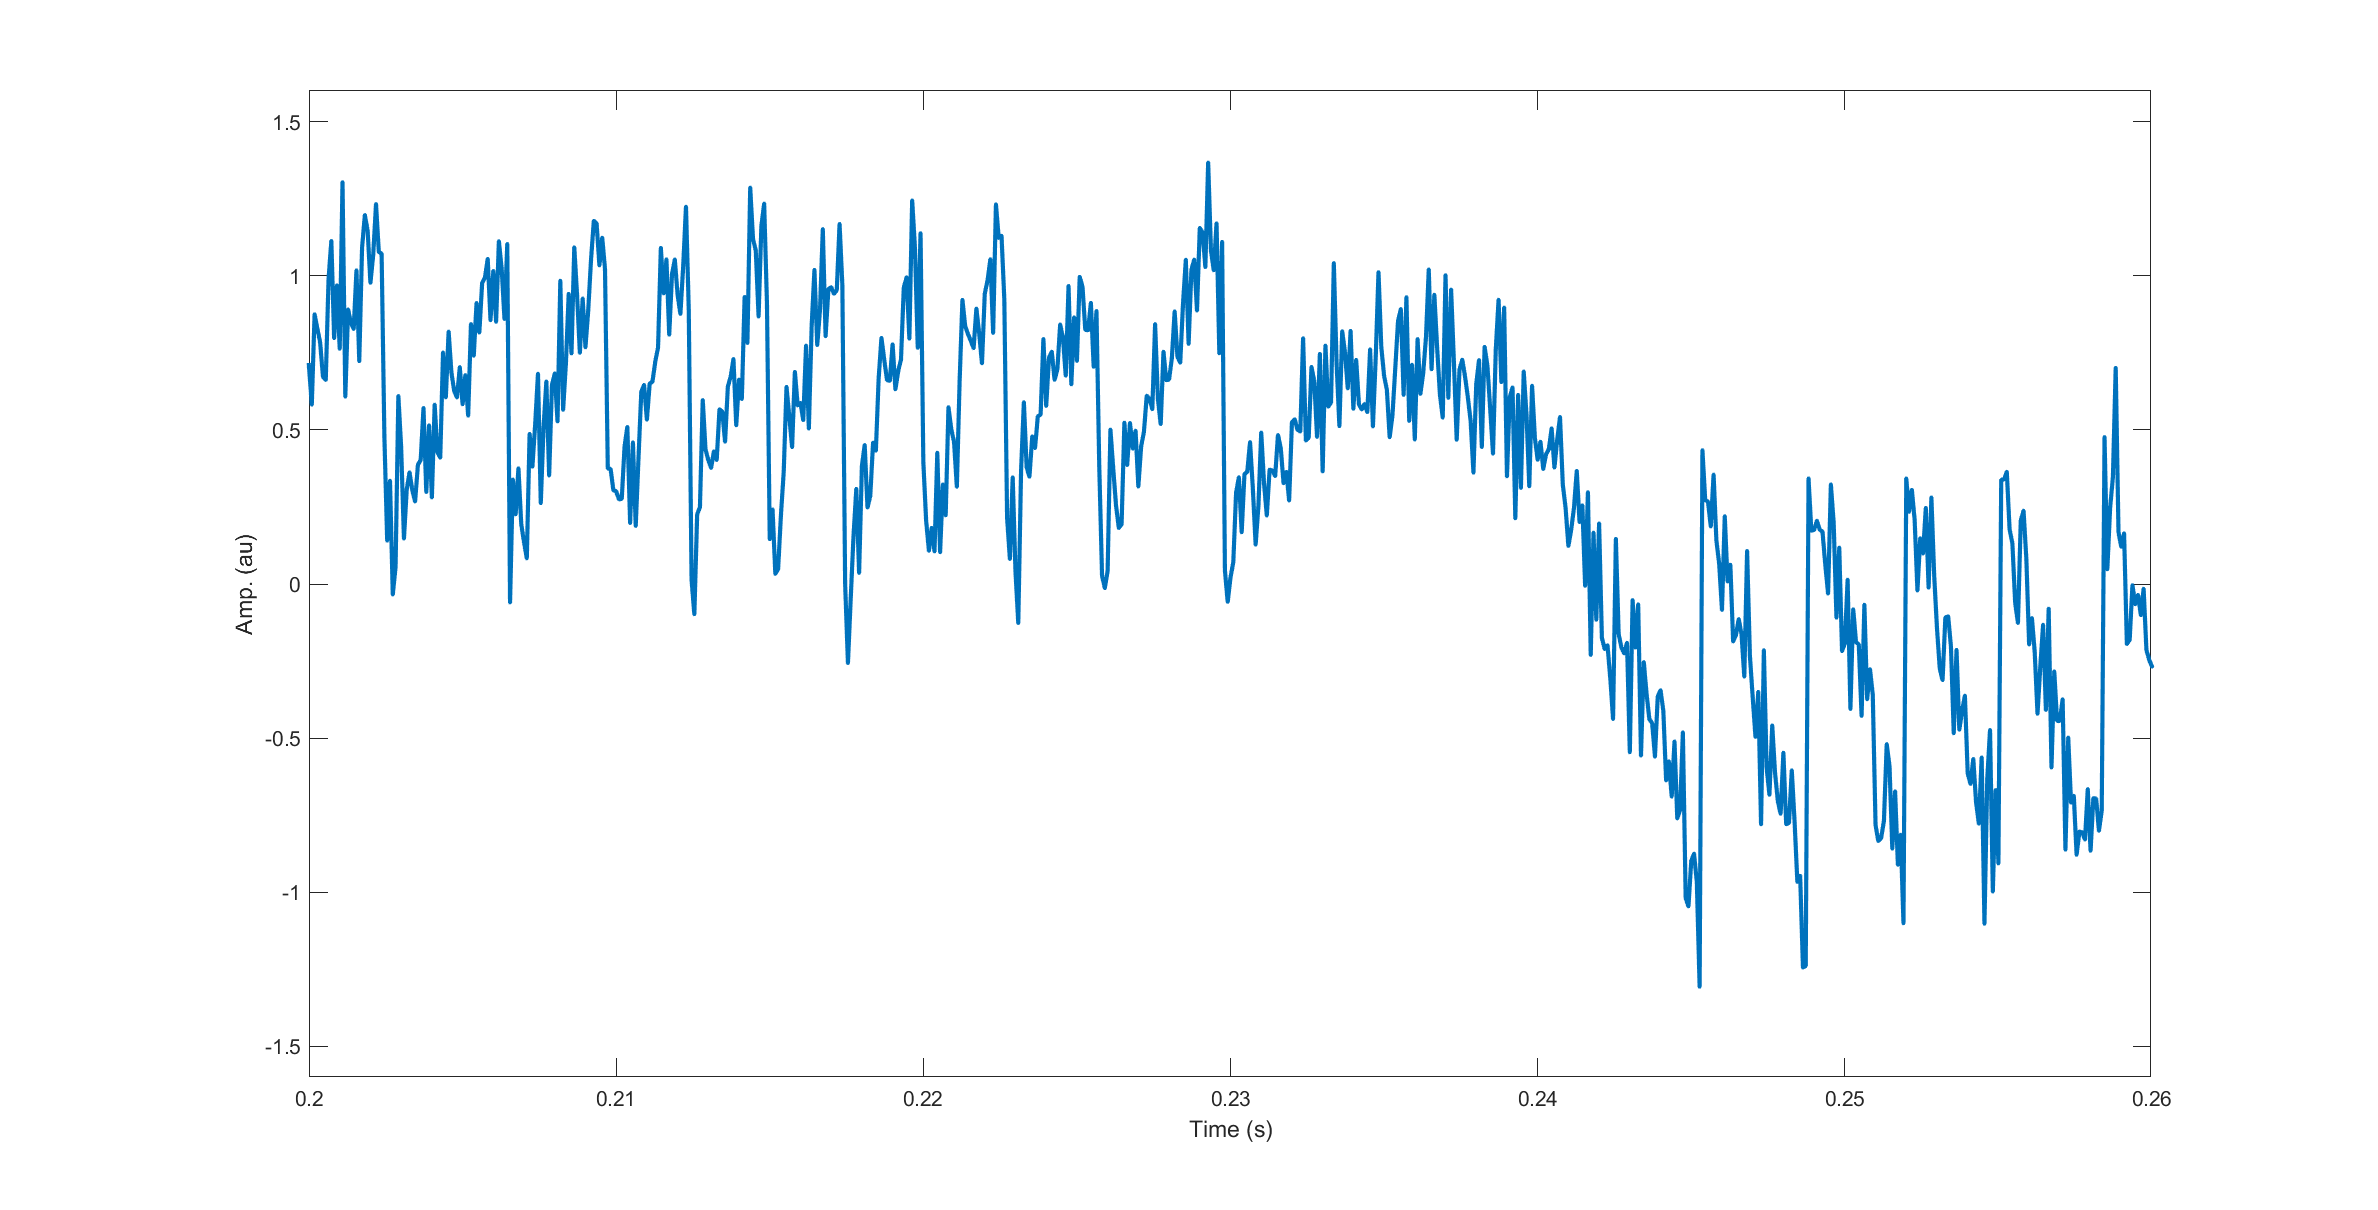negative_fringe: (1690, 438, 1792, 992), (1792, 458, 1883, 972), (1992, 434, 2082, 897), (1893, 468, 1984, 918), (2089, 363, 2150, 912)
positive_fringe: (1127, 147, 1238, 607), (414, 235, 517, 610), (944, 177, 1023, 630), (620, 194, 701, 614), (523, 205, 616, 565), (782, 205, 853, 670), (318, 174, 395, 570), (707, 174, 776, 562), (1025, 267, 1106, 576), (864, 177, 927, 568)
